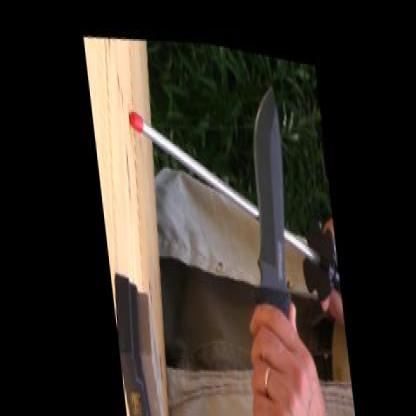knife: (209, 50, 319, 414)
